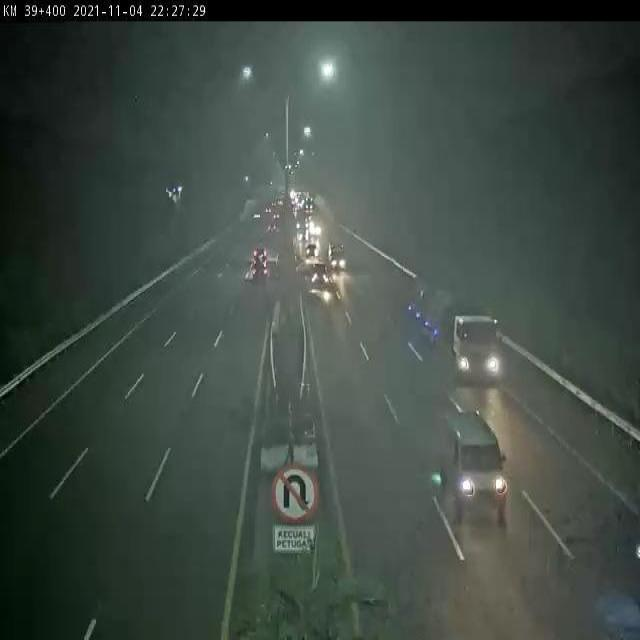ARABA: (444, 409, 509, 520), (310, 263, 331, 289), (251, 263, 268, 281)
KAMYONET: (328, 244, 349, 272)
TIR: (406, 284, 502, 385)
